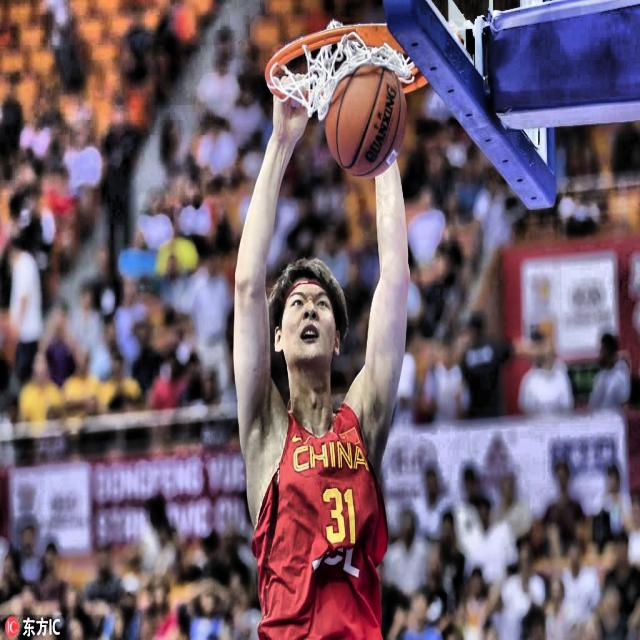board: (323, 64, 407, 179)
